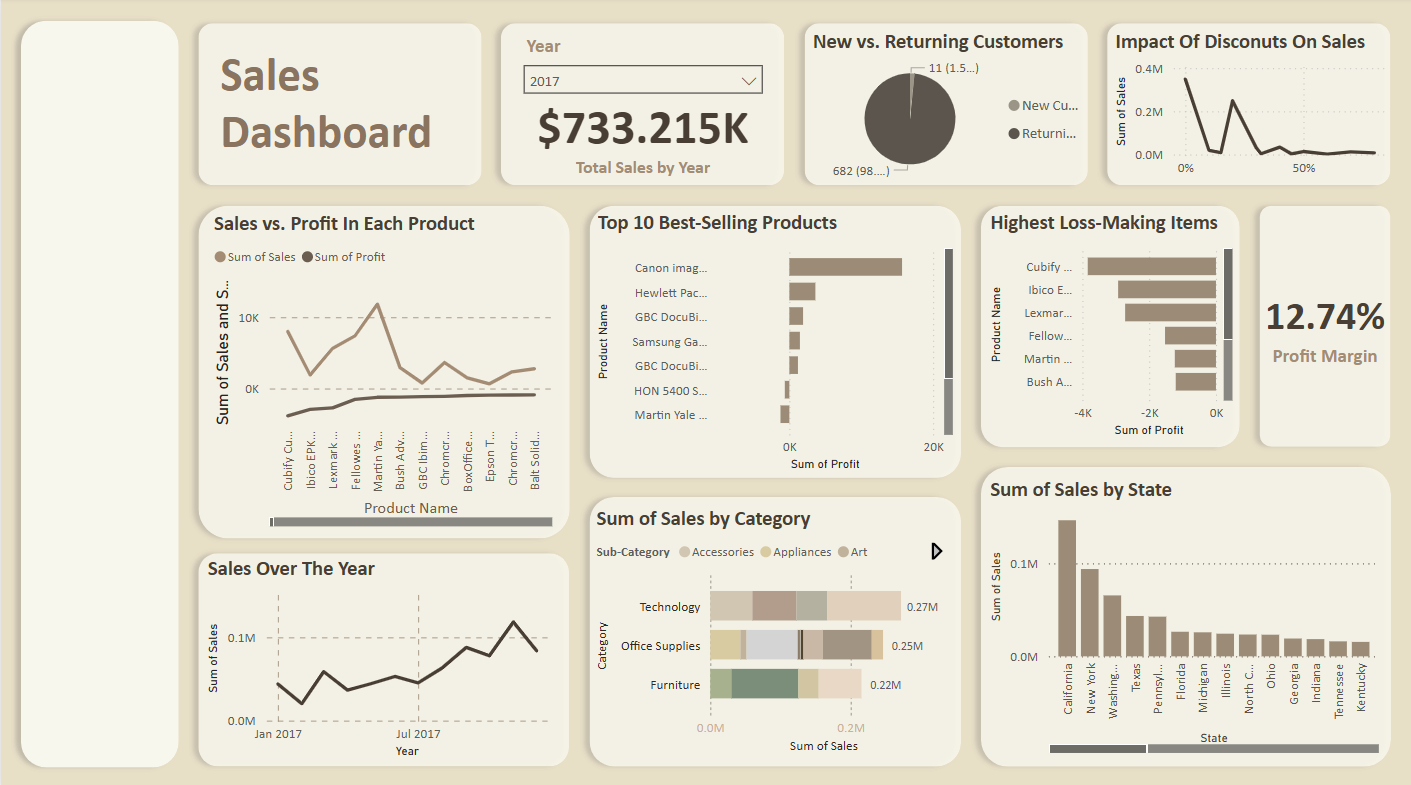

What the dashboard file says about the page in this screenshot:
{"tool":"powerbi","page":{"name":"Page 1","canvas":[1280,720],"ordinal":0},"visuals":[{"type":"shape","box":[8.9,12.2,161.1,695.6],"z":0},{"type":"shape","box":[170,15,275,165],"z":1000},{"type":"shape","box":[445,15,275,165],"z":2000},{"type":"shape","box":[720,15,275,165],"z":3000},{"type":"shape","box":[995,15,275,165],"z":4000},{"type":"shape","box":[170,180,355,320],"z":5000},{"type":"shape","box":[525,180,355,265],"z":6000},{"type":"shape","box":[525,445,355,262.5],"z":7000},{"type":"shape","box":[880,180,252.9,237.1],"z":8000},{"type":"shape","box":[1133.3,180,136.7,236.7],"z":9000},{"type":"shape","box":[880,417.1,390,290],"z":10000},{"type":"textbox","box":[194,38,230,114],"z":11000},{"type":"card","fields":{"Values":["Orders3.Total Sales 2017"]},"box":[463.8,77.5,237.5,93.8],"z":12000},{"type":"slicer","fields":{"Values":["Orders3.Order Date.Variation.Date Hierarchy.Year"]},"box":[464.3,28.6,237.1,68.6],"z":13000},{"type":"barChart","title":"Sum of Sales by Category","fields":{"Category":["Orders3.Category"],"Series":["Orders3.Sub-Category"],"Y":["Sum(Orders3.Sales)"]},"box":[535.7,461.4,332.9,230],"z":14000},{"type":"lineClusteredColumnComboChart","title":"Sum of Sales by State","fields":{"Category":["Orders3.State"],"Y":["Sum(Orders3.Sales)"]},"box":[892.9,435.7,362.9,255.7],"z":15000},{"type":"pieChart","title":"New vs. Returning Customers","fields":{"Y":["Orders3.New Customers","Orders3.Returning Customers"]},"box":[731.2,28.8,263.8,142.5],"z":16000},{"type":"card","fields":{"Values":["Orders3.Profit Margin"]},"box":[1140,193.3,123.3,211.7],"z":17000},{"type":"barChart","title":"Top 10 Best-Selling Products","fields":{"Category":["Orders3.Product Name"],"Y":["Sum(Orders3.Profit)"]},"box":[536.2,192.5,332.5,242.5],"z":18000},{"type":"lineChart","title":"Impact Of Disconuts On Sales","fields":{"Category":["Orders3.Discount"],"Y":["Sum(Orders3.Sales)"]},"box":[1006.2,28.8,256.2,143.8],"z":19000},{"type":"clusteredBarChart","title":"Highest Loss-Making Items","fields":{"Category":["Orders3.Product Name"],"Y":["Sum(Orders3.Profit)"]},"box":[892.9,192.9,230,211.4],"z":20000},{"type":"lineChart","title":"Sales vs. Profit In Each Product","fields":{"Category":["Orders3.Product Name"],"Y":["Sum(Orders3.Sales)","Sum(Orders3.Profit)"]},"box":[188.6,194.3,317.1,291.4],"z":21000},{"type":"shape","box":[170,495.7,354.3,211.4],"z":22000},{"type":"lineChart","title":"Sales Over The Year","fields":{"Y":["Sum(Orders3.Sales)"],"Category":["Orders3.Order Date.Variation.Date Hierarchy.Year","Orders3.Order Date.Variation.Date Hierarchy.Month"]},"box":[182.9,507.1,328.6,188.6],"z":23000}]}

Visuals, with their boxes in screenshot pixels (x1, y1, x2, y2), scaled from the page's 1280x720 canvas onto the 1411x785 screenshot:
shape: {"left": 10, "top": 13, "right": 187, "bottom": 772}
shape: {"left": 187, "top": 16, "right": 491, "bottom": 196}
shape: {"left": 491, "top": 16, "right": 794, "bottom": 196}
shape: {"left": 794, "top": 16, "right": 1097, "bottom": 196}
shape: {"left": 1097, "top": 16, "right": 1400, "bottom": 196}
shape: {"left": 187, "top": 196, "right": 579, "bottom": 545}
shape: {"left": 579, "top": 196, "right": 970, "bottom": 485}
shape: {"left": 579, "top": 485, "right": 970, "bottom": 771}
shape: {"left": 970, "top": 196, "right": 1249, "bottom": 455}
shape: {"left": 1249, "top": 196, "right": 1400, "bottom": 454}
shape: {"left": 970, "top": 455, "right": 1400, "bottom": 771}
textbox: {"left": 214, "top": 41, "right": 467, "bottom": 166}
card - Orders3.Total Sales 2017: {"left": 511, "top": 84, "right": 773, "bottom": 187}
slicer - Orders3.Order Date.Variation.Date Hierarchy.Year: {"left": 512, "top": 31, "right": 773, "bottom": 106}
"Sum of Sales by Category" barChart: {"left": 591, "top": 503, "right": 957, "bottom": 754}
"Sum of Sales by State" lineClusteredColumnComboChart: {"left": 984, "top": 475, "right": 1384, "bottom": 754}
"New vs. Returning Customers" pieChart: {"left": 806, "top": 31, "right": 1097, "bottom": 187}
card - Orders3.Profit Margin: {"left": 1257, "top": 211, "right": 1393, "bottom": 442}
"Top 10 Best-Selling Products" barChart: {"left": 591, "top": 210, "right": 958, "bottom": 474}
"Impact Of Disconuts On Sales" lineChart: {"left": 1109, "top": 31, "right": 1392, "bottom": 188}
"Highest Loss-Making Items" clusteredBarChart: {"left": 984, "top": 210, "right": 1238, "bottom": 441}
"Sales vs. Profit In Each Product" lineChart: {"left": 208, "top": 212, "right": 557, "bottom": 530}
shape: {"left": 187, "top": 540, "right": 578, "bottom": 771}
"Sales Over The Year" lineChart: {"left": 202, "top": 553, "right": 564, "bottom": 759}
